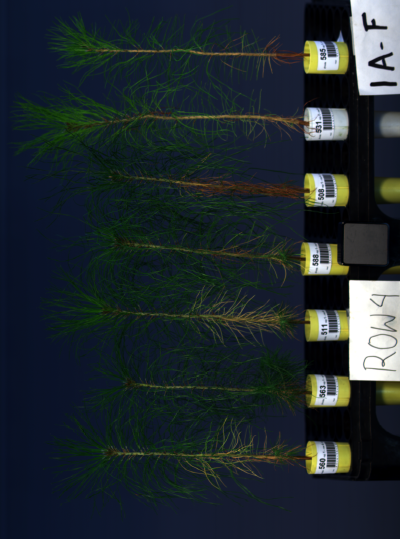tube: (301, 38, 347, 75), (306, 440, 352, 477), (304, 372, 350, 409), (302, 307, 348, 344), (301, 241, 347, 278), (302, 169, 348, 206), (302, 104, 348, 141)
